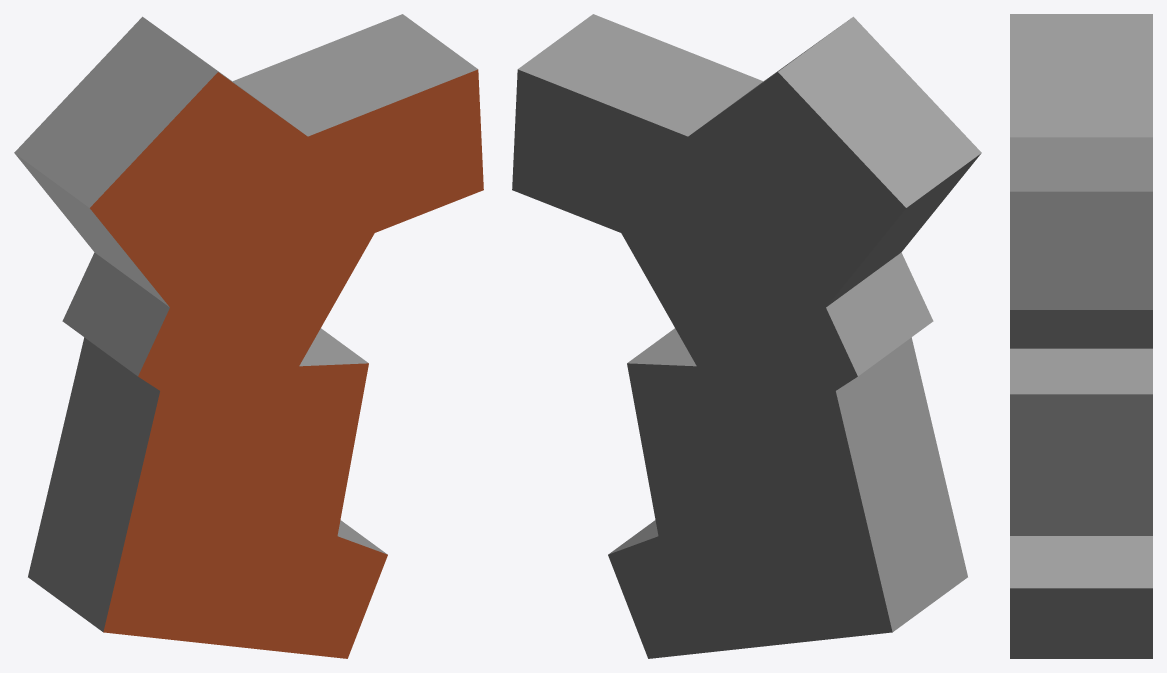
Rendered from construction_3623_assumed_A_Casa_h6m.obj.
3 renders of one model, left to right at view 1: azimuth 30°, elevation 25°; view 2: azimuth 150°, elevation 25°; view 3: azimuth 270°, elevation 25°, orthographic. The views are drawn at different scales.
Visible parts, largest first — view 1: construction_3623_assumed_A_Casa; view 2: construction_3623_assumed_A_Casa; view 3: construction_3623_assumed_A_Casa.
Part boxes in pixels (bbox=[...]): construction_3623_assumed_A_Casa: bbox=[14, 14, 483, 658]; construction_3623_assumed_A_Casa: bbox=[512, 14, 981, 658]; construction_3623_assumed_A_Casa: bbox=[1010, 14, 1152, 658].
Bounding box in the file's own units: 18.07 × 27.1 × 6.
